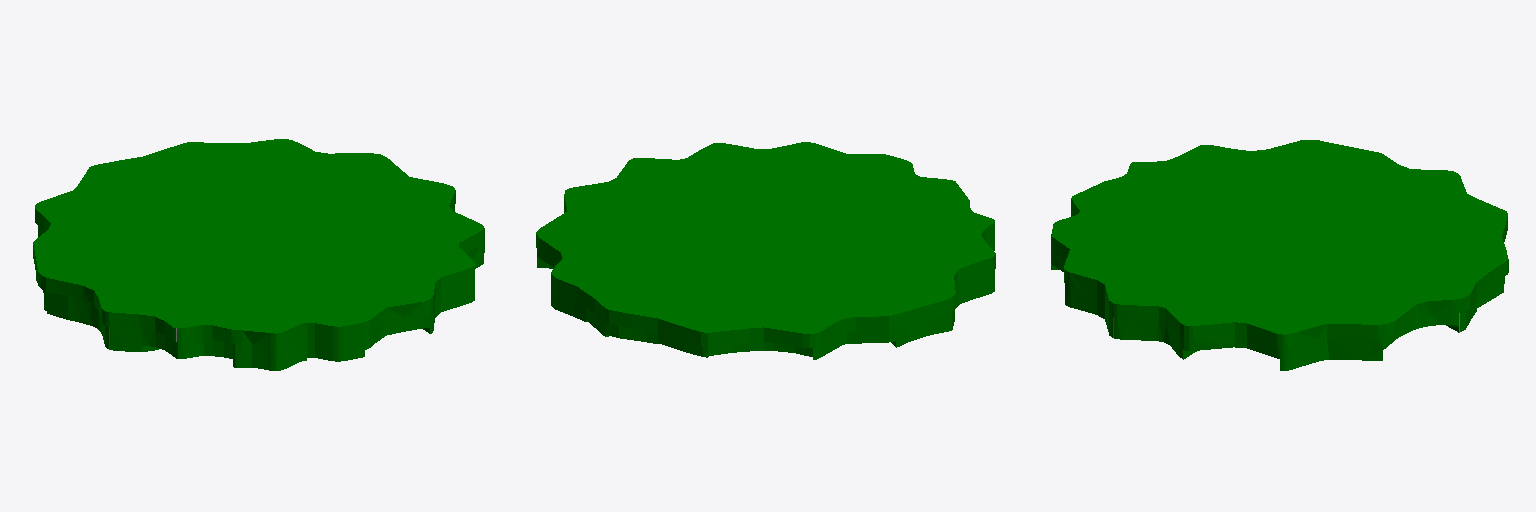
The model's file is Lechuga.obj.
3 renders of one model, left to right at view 1: azimuth 30°, elevation 25°; view 2: azimuth 150°, elevation 25°; view 3: azimuth 270°, elevation 25°, orthographic.
Parts seen in each view (by area): view 1: Lechuga; view 2: Lechuga; view 3: Lechuga.
Part boxes in pixels (x1,y1,x2,y2): Lechuga: (33,139,484,370); Lechuga: (536,142,995,359); Lechuga: (1051,140,1508,370).
Size of the model in its own units: 29.9 by 2.7 by 29.61.